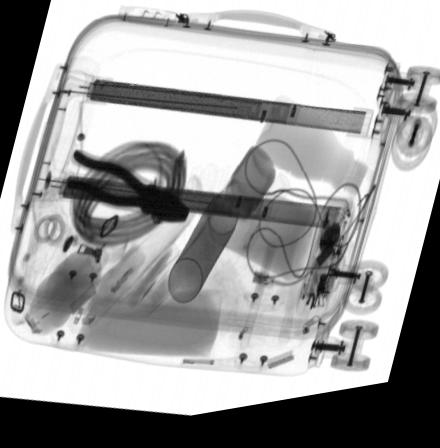Pliers: (65, 150, 191, 228)
